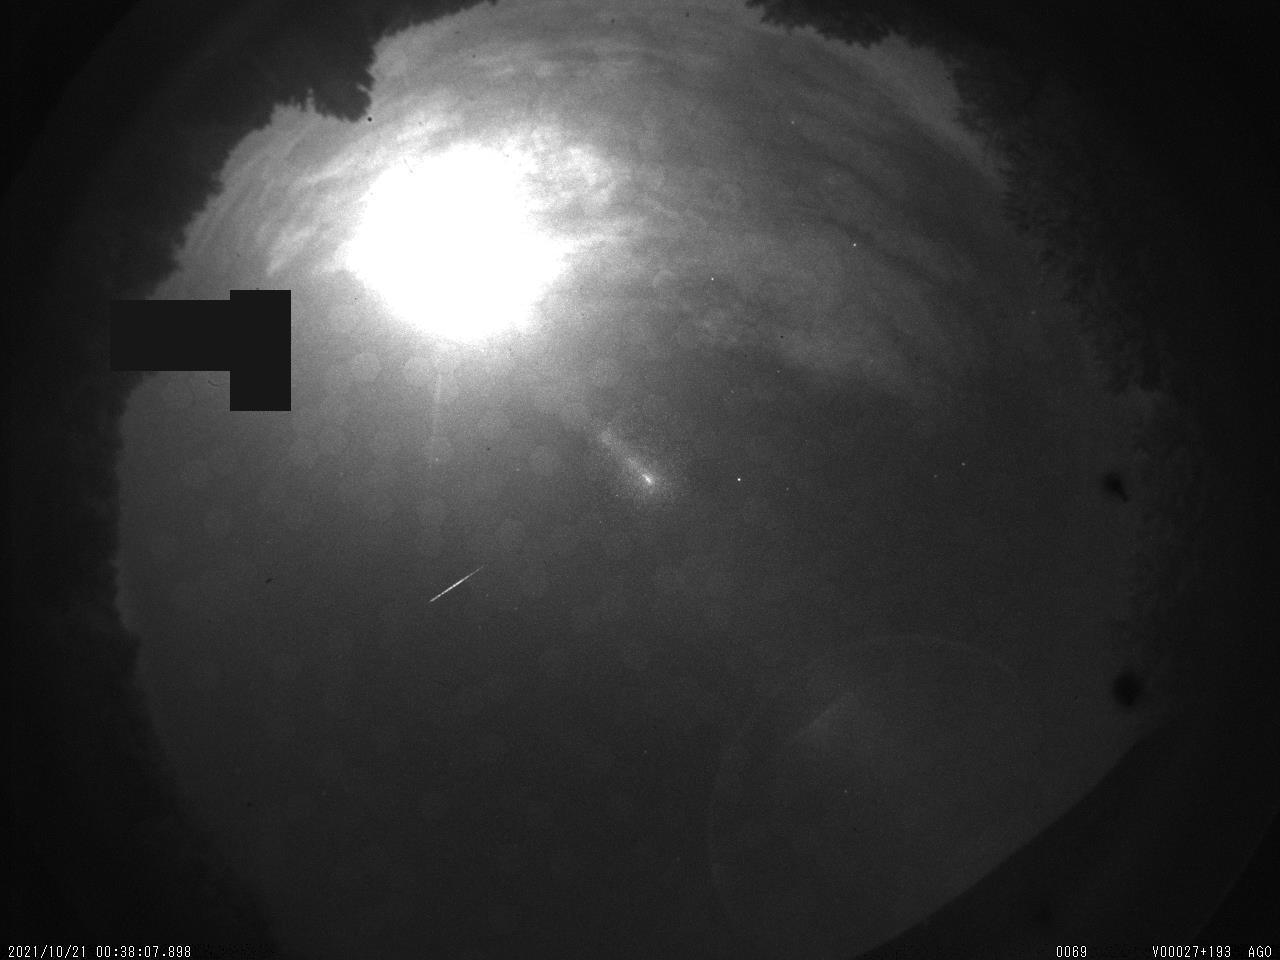meteor: (425, 563, 489, 606)
